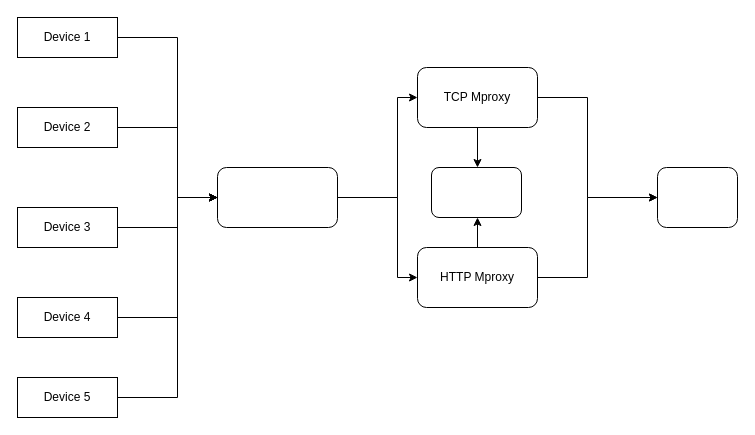
Some shapes in this 755 by 435 pixel diagram are drawn without their labels. The shapes that lost their labels are listed below. From the top down, each one's box as (x1, y1, x2, y2) in pixels, then its label:
(216, 166, 338, 228): System
(430, 166, 522, 218): Database
(656, 166, 738, 228): Mqtt
